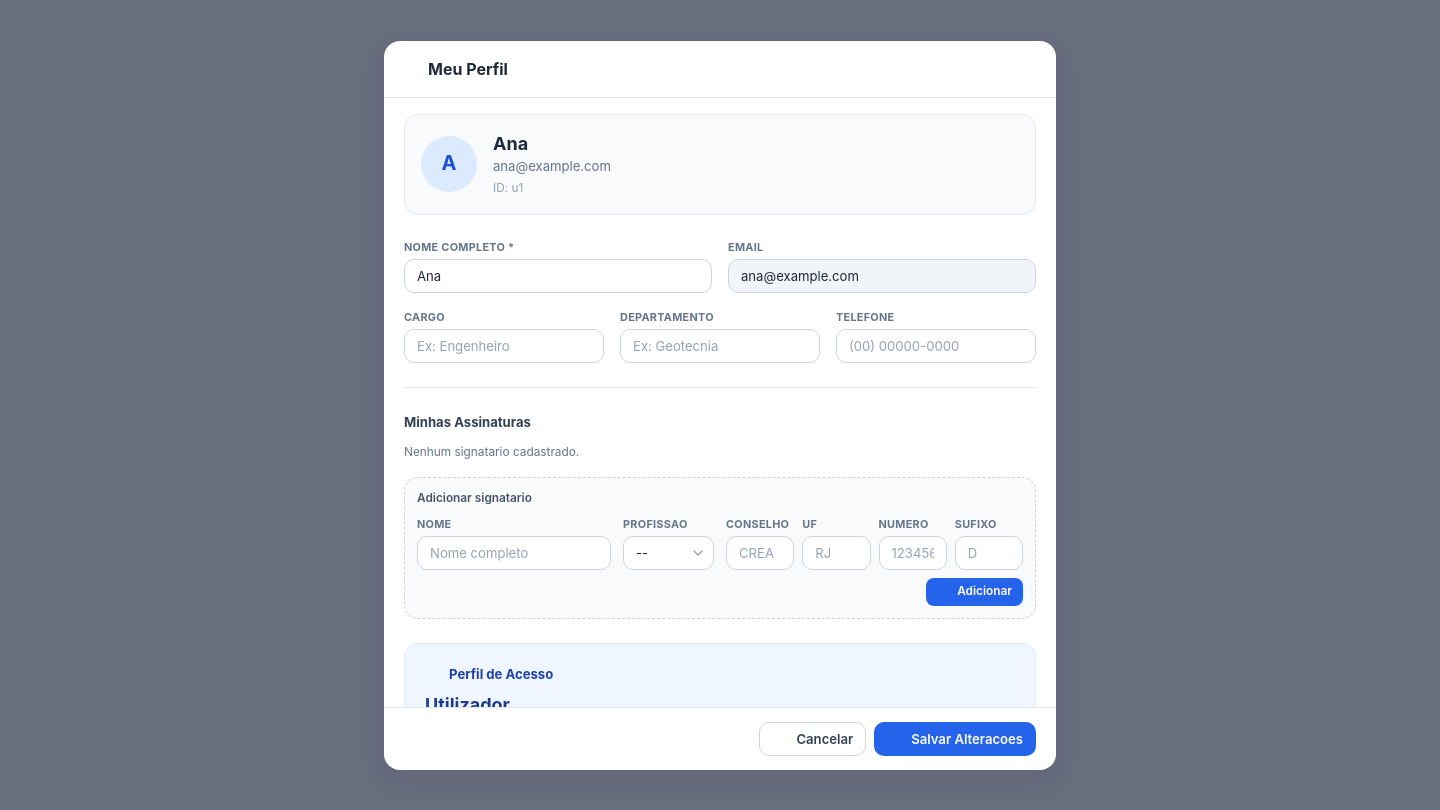
Test: ProfileModal double-submit › Salvar dispara saveUser uma vez e desabilita botoes enquanto em voo
What coordinates should you click on to do the following:
click the button "Salvar Alteracoes"
I would click on:
 (955, 738)
Its box is x1=874 y1=722 x2=1036 y2=756.
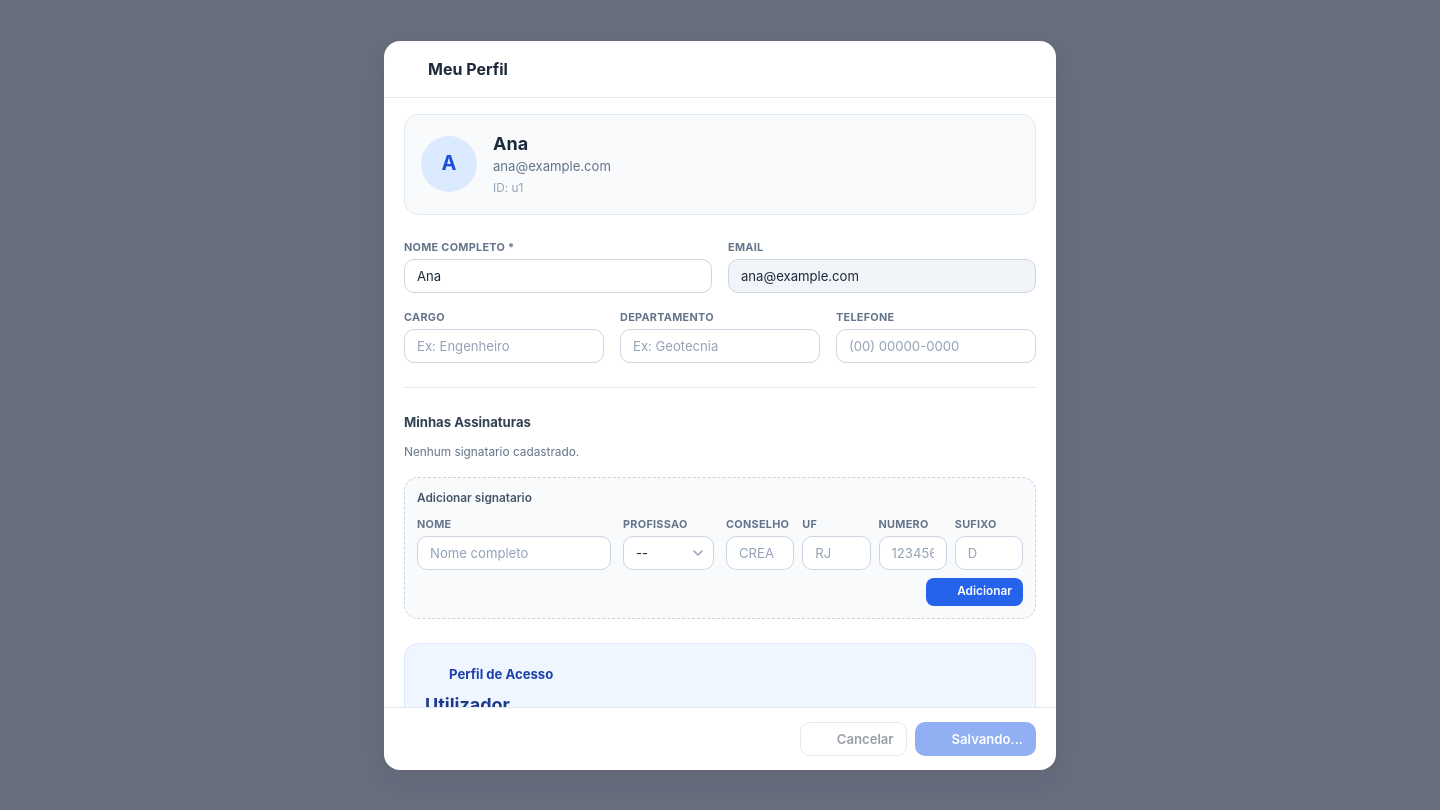
expect the button "Salvando..." is disabled: met
expect the button "Salvando..." is shown: met
expect the button "Cancelar" is disabled: met, box x1=800 y1=722 x2=907 y2=756
What coordinates should you click on to do the following:
click the button "Salvando..."
I would click on:
 (975, 738)
Its box is x1=915 y1=722 x2=1036 y2=756.
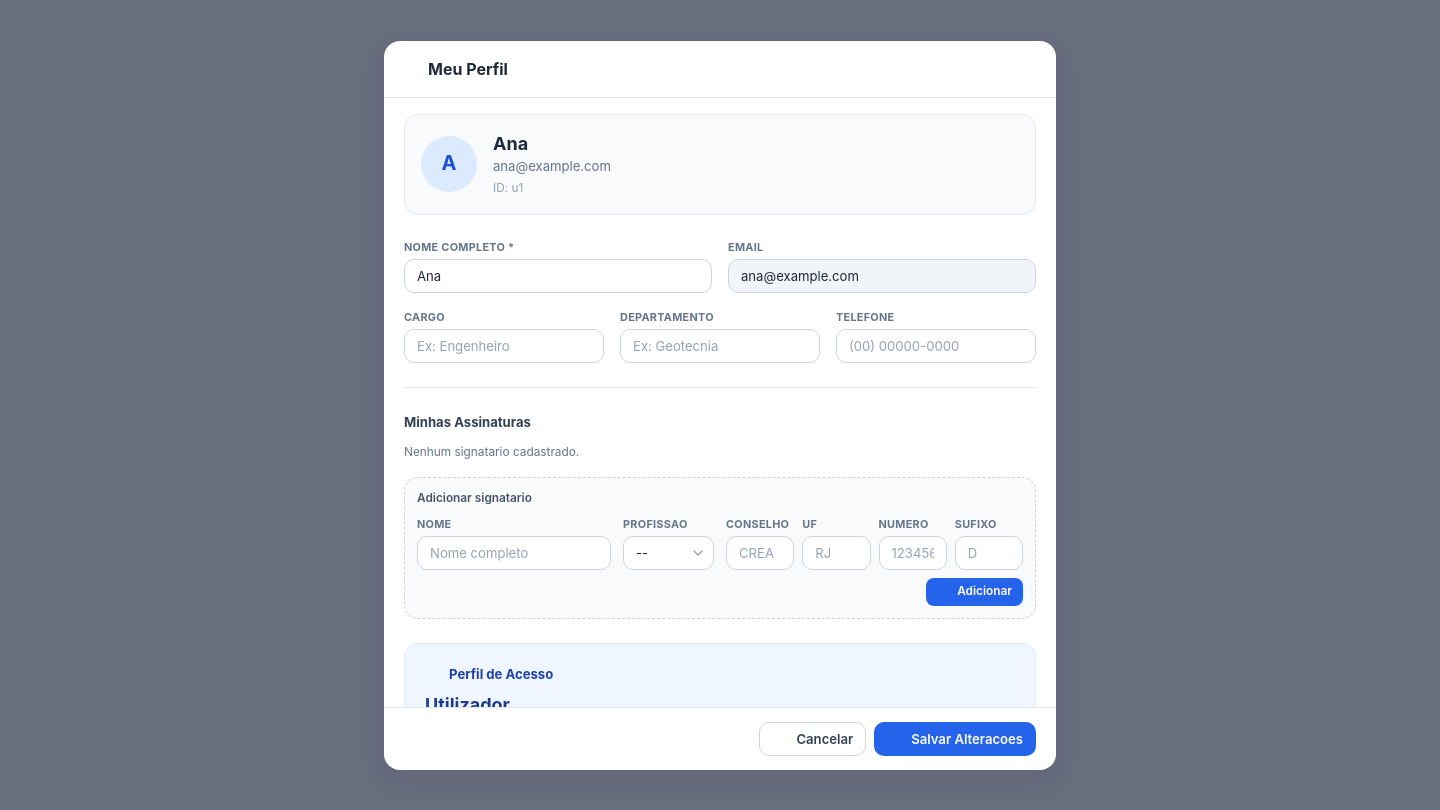
expect the button "Salvar Alteracoes" is enabled: met, box x1=874 y1=722 x2=1036 y2=756
